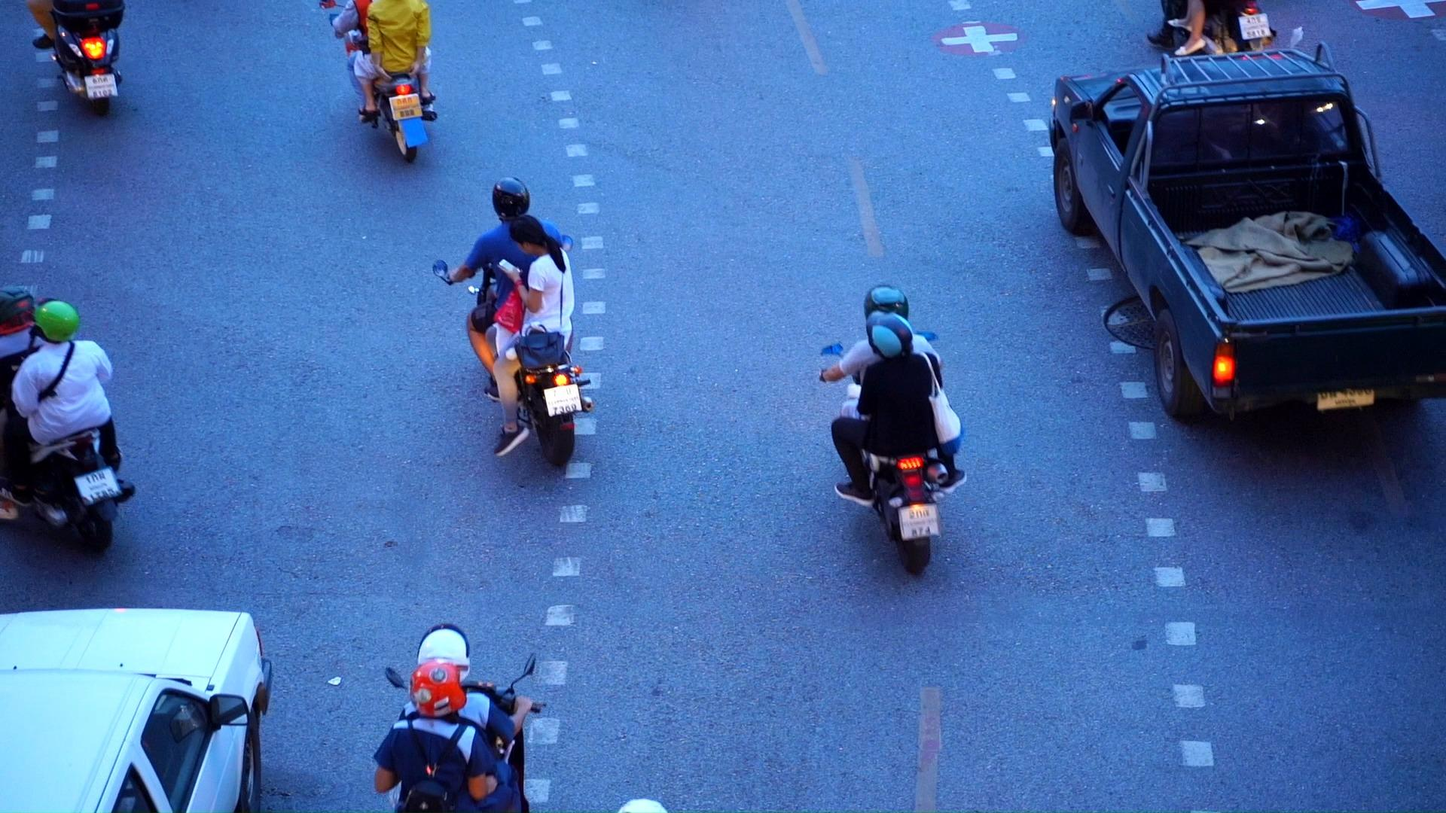driver: (432, 177, 596, 465), (819, 284, 968, 577), (0, 285, 136, 554), (372, 624, 548, 813), (318, 0, 437, 164), (27, 1, 125, 116), (1147, 0, 1277, 57)
helmet: (410, 659, 467, 719), (416, 624, 471, 684), (866, 310, 913, 363), (28, 298, 80, 345), (492, 176, 531, 223), (0, 286, 34, 335), (864, 284, 909, 321)
no-helmet: (509, 214, 562, 255)
